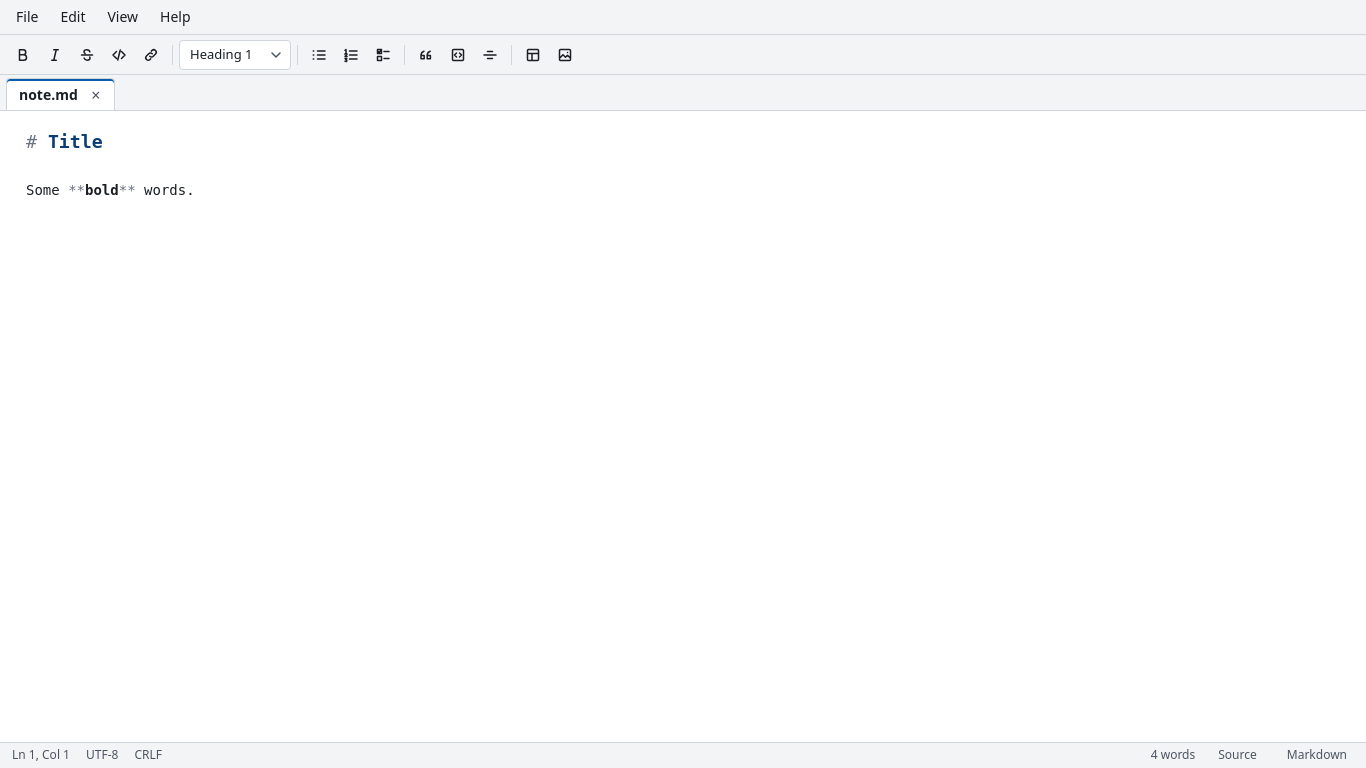
Test: the format button › opens the picker with the current format ticked, and focus returns to the editor
Click the button with aria-label "Format:" at [1317, 756], box [1280,746,1354,765]
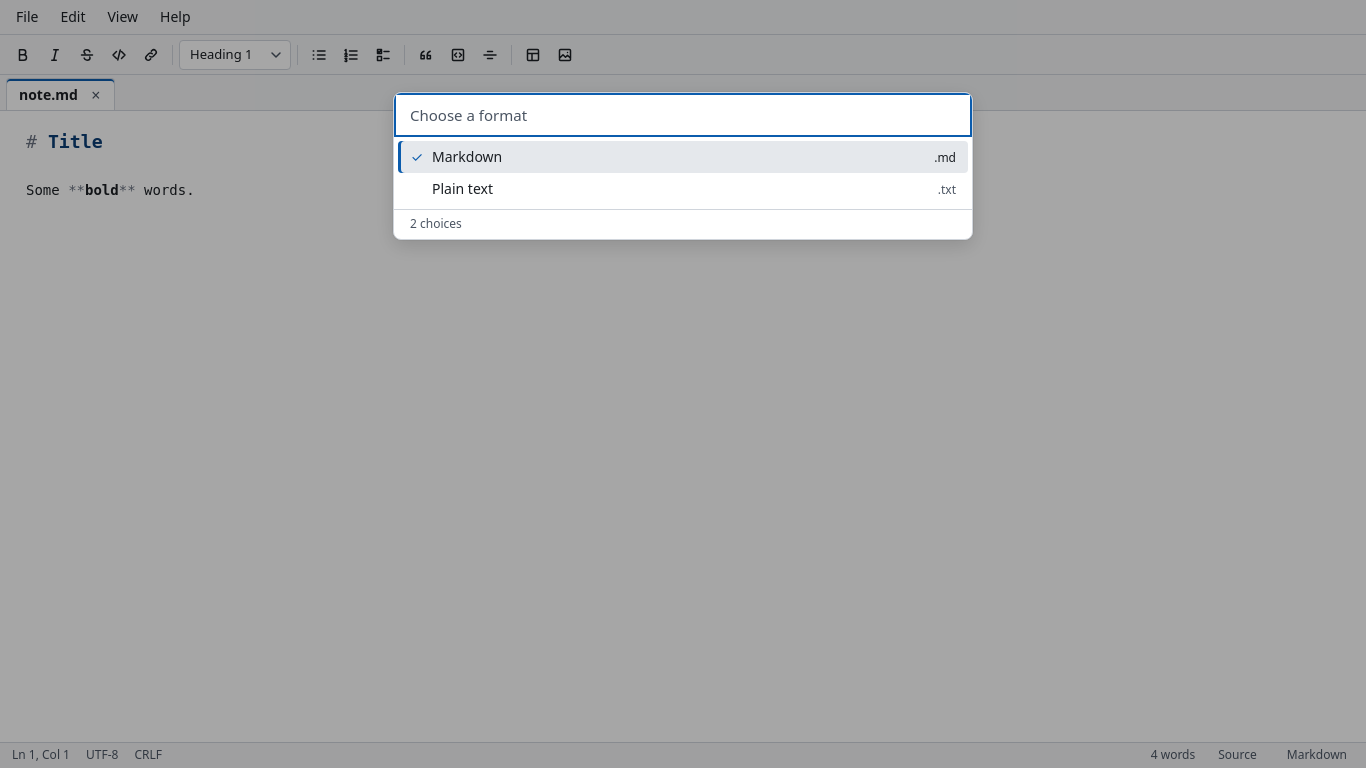
Press ArrowDown in the dropdown, box [394,93,972,137]
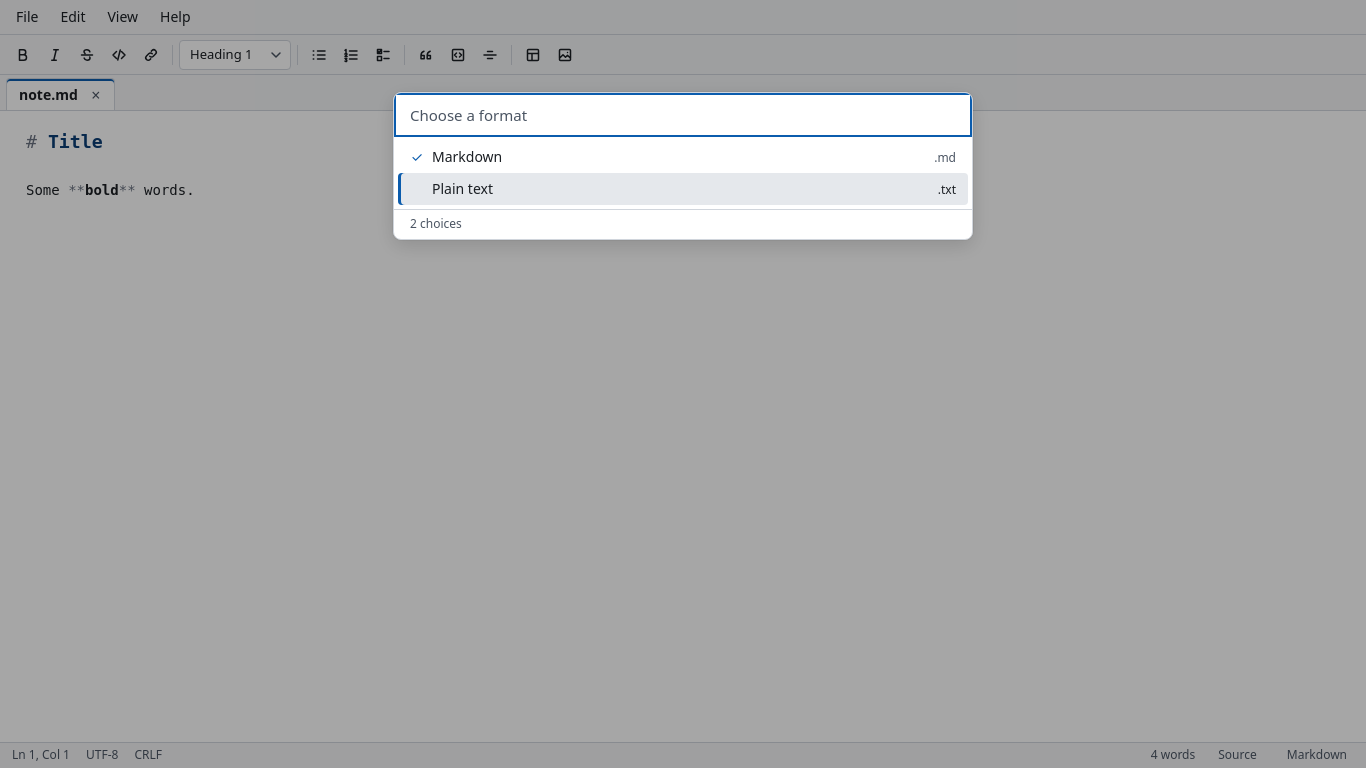
Press Enter in the dropdown, box [394,93,972,137]
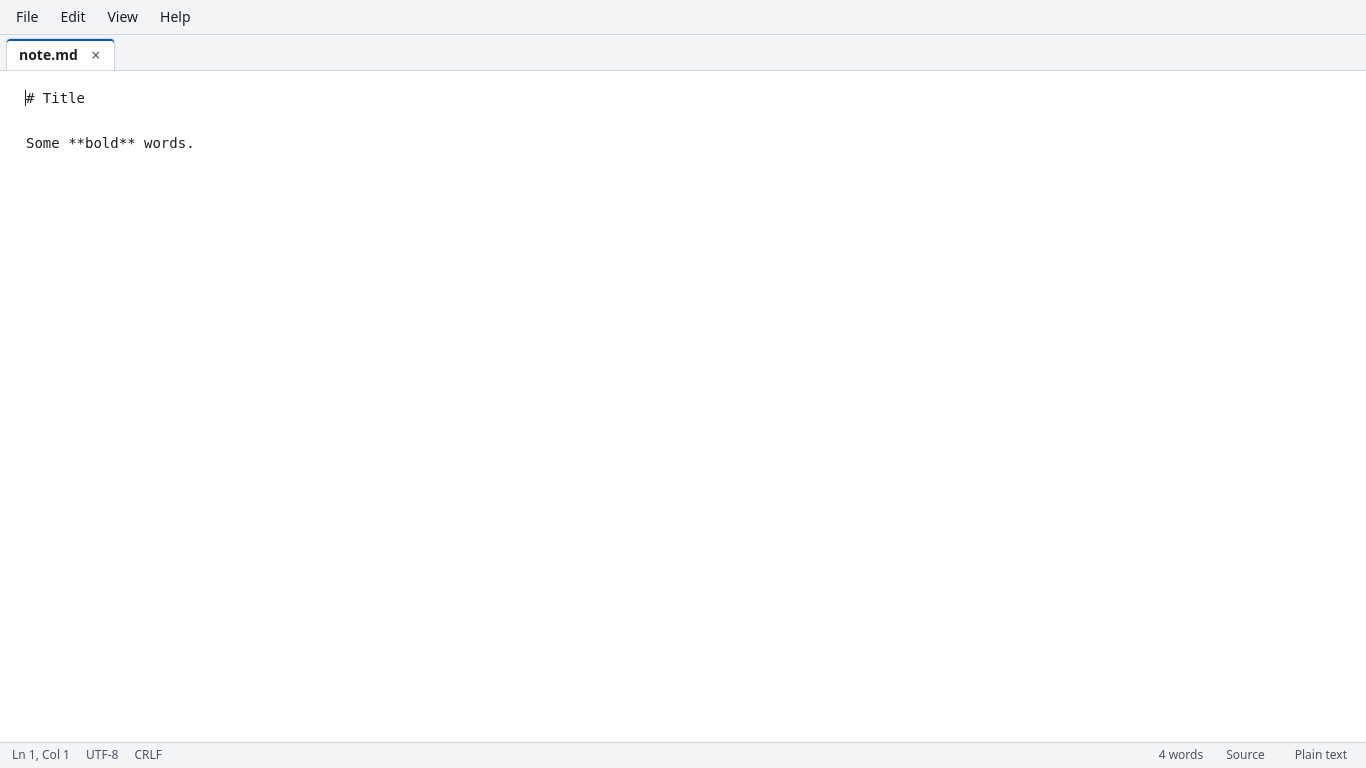
Expected: the button with aria-label "Format:" reads "Plain text", [1288,746,1354,765]
